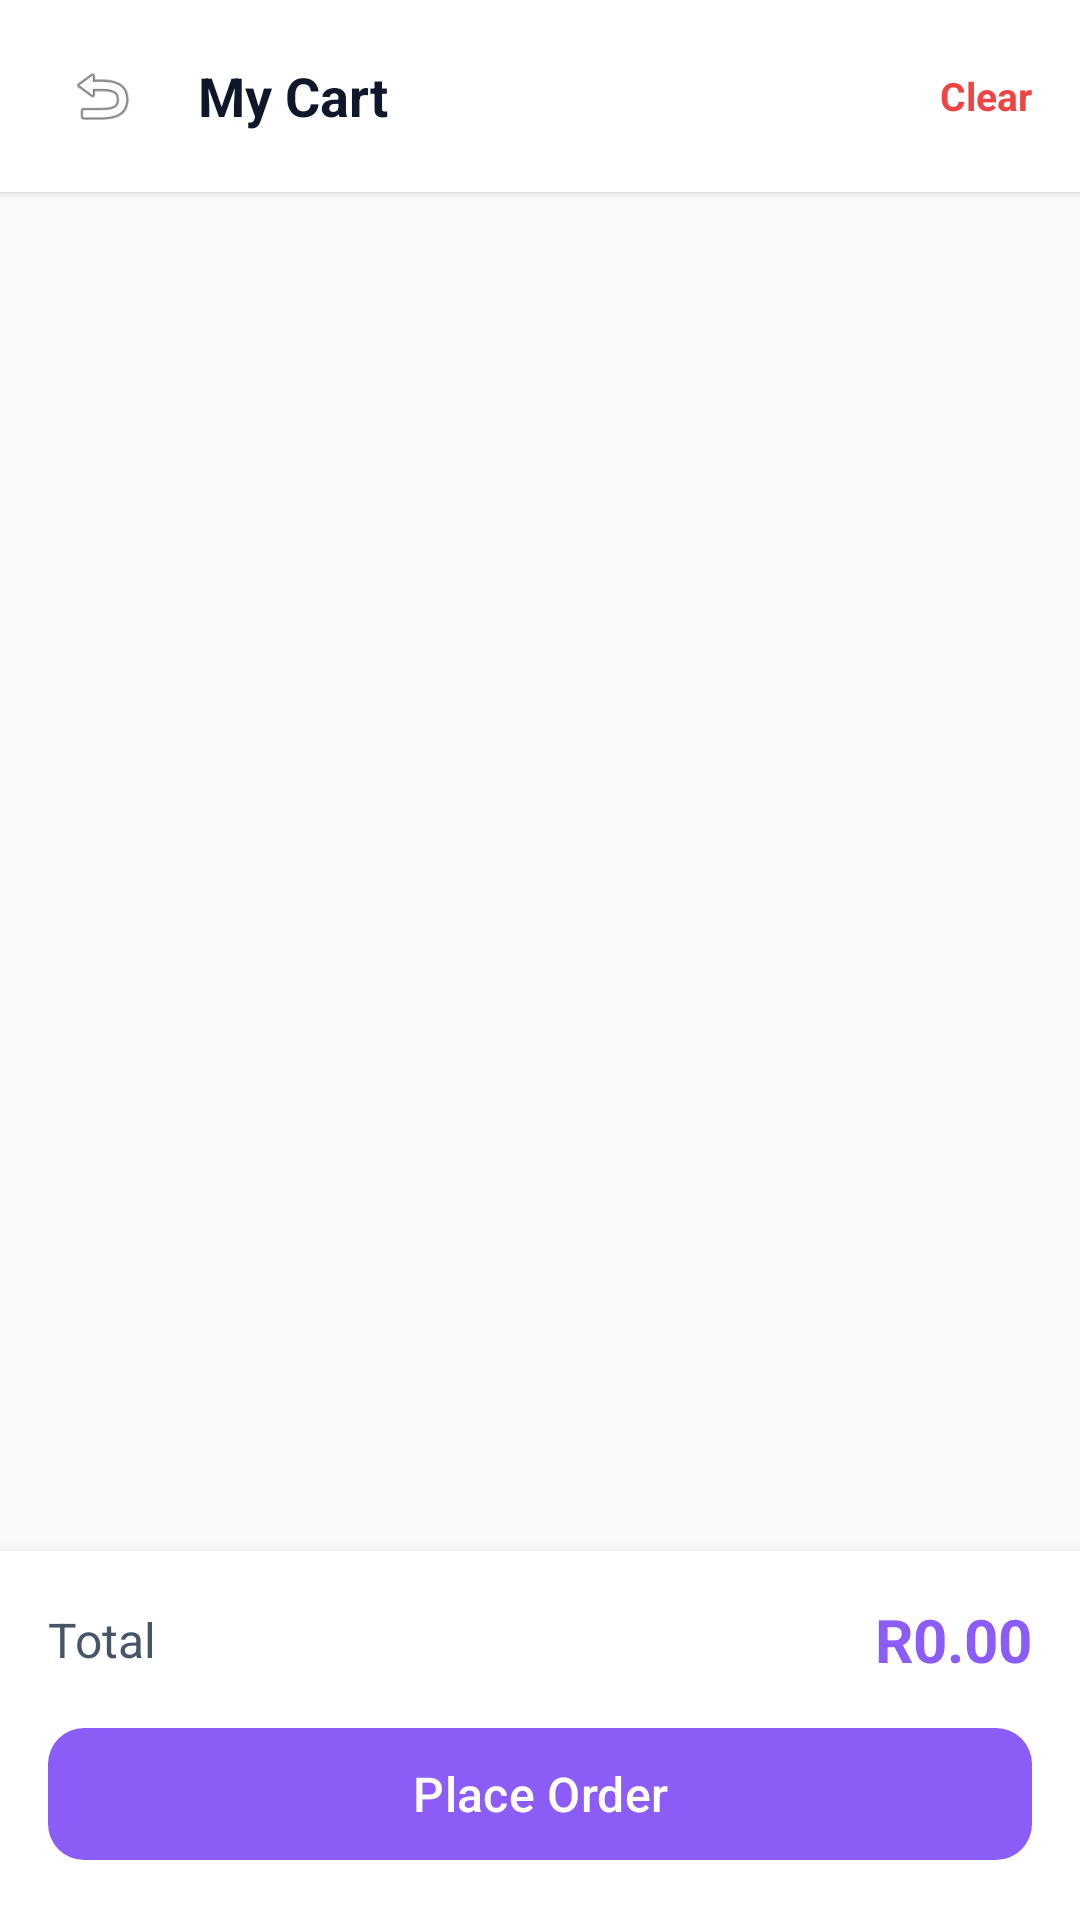

Icons on this 1080w x 1920h Android screen, each with the point to tap as point (x, y):
Back: point (103, 96)
